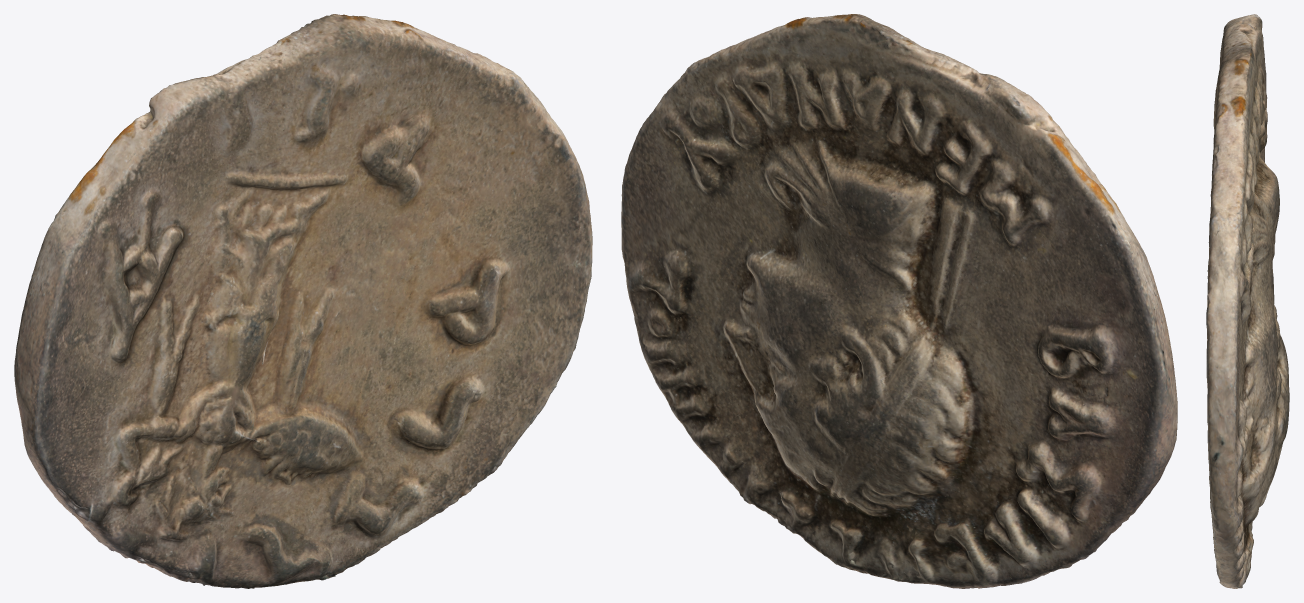
The picture shows the model from 3 angles, left to right: view 1: azimuth 30°, elevation 25°; view 2: azimuth 150°, elevation 25°; view 3: azimuth 270°, elevation 25°; orthographic projection. The views are drawn at different scales.
Parts seen in each view (by area): view 1: Model; view 2: Model; view 3: Model.
Part boxes in pixels (<box>): Model: <box>14,14,592,588</box>; Model: <box>621,14,1177,588</box>; Model: <box>1206,14,1289,588</box>.
Bounding box in the file's own units: 0.6209 × 0.085 × 0.5885.
